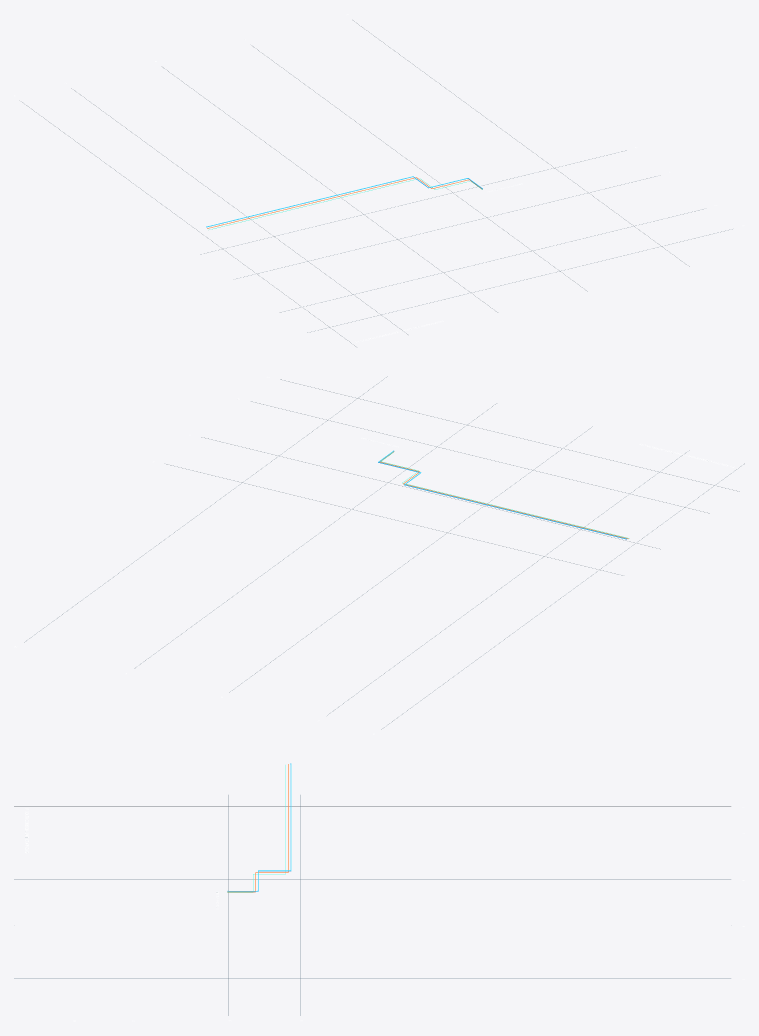
3 views of the same model, one above another, from view 1: azimuth 30°, elevation 25°; view 2: azimuth 150°, elevation 25°; view 3: azimuth 270°, elevation 25° (orthographic). The views are drawn at different scales.
Parts seen in each view (by area): view 1: no part large enough to name; view 2: no part large enough to name; view 3: p1-grid-10, p1-grid-6, p1-grid-8.
Part boxes in pixels (bbox=[...]): p1-grid-10: bbox=[14, 978, 730, 978]; p1-grid-6: bbox=[14, 806, 730, 806]; p1-grid-8: bbox=[14, 879, 730, 879].
Bounding box in the file's own units: 41.45 × 2.79 × 56.44.
